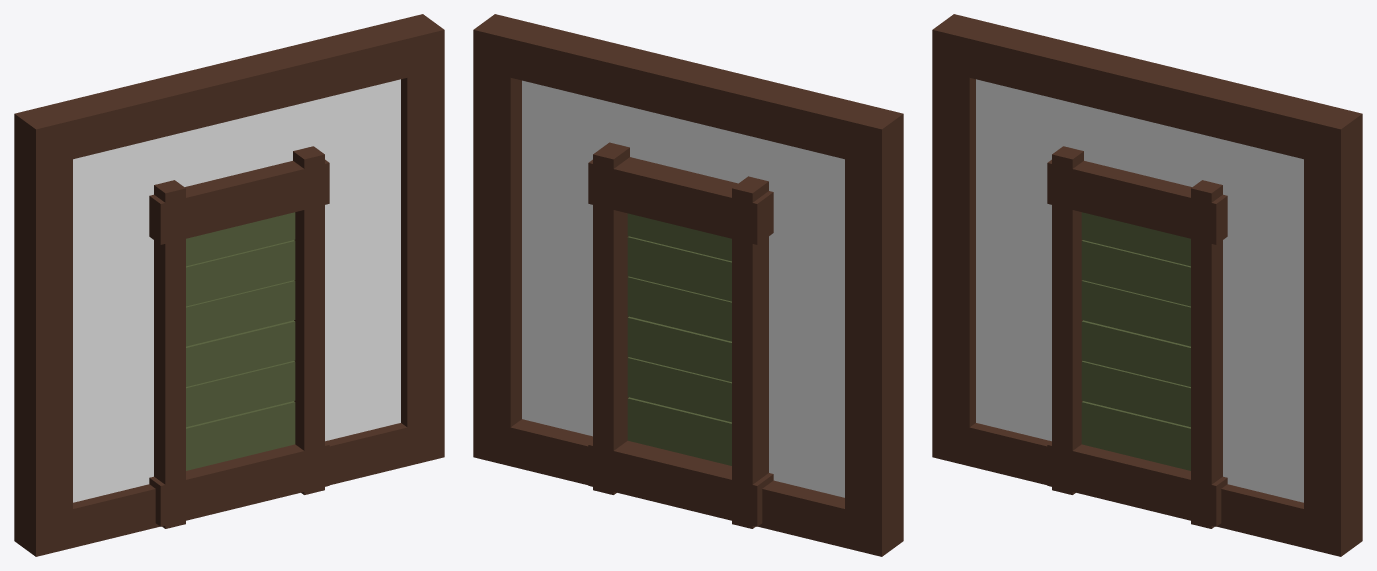
The model's file is barikatsizkapi.fbx.
3 renders of one model, left to right at view 1: azimuth 30°, elevation 25°; view 2: azimuth 150°, elevation 25°; view 3: azimuth 330°, elevation 25°, orthographic.
Visible parts, largest first — view 1: Plane.051, Plane.050, Cube; view 2: Plane.051, Plane.050, Cube; view 3: Plane.051, Plane.050, Cube.
Part boxes in pixels (bbox=[...]): Plane.051: bbox=[14, 14, 444, 556]; Plane.050: bbox=[73, 79, 400, 502]; Cube: bbox=[186, 212, 295, 470]; Plane.051: bbox=[473, 14, 903, 556]; Plane.050: bbox=[522, 80, 844, 497]; Cube: bbox=[627, 213, 731, 465]; Plane.051: bbox=[932, 14, 1362, 556]; Plane.050: bbox=[976, 79, 1303, 502]; Cube: bbox=[1081, 212, 1190, 470].
Size of the model in its own units: 2.86 by 2.86 by 0.3809.
